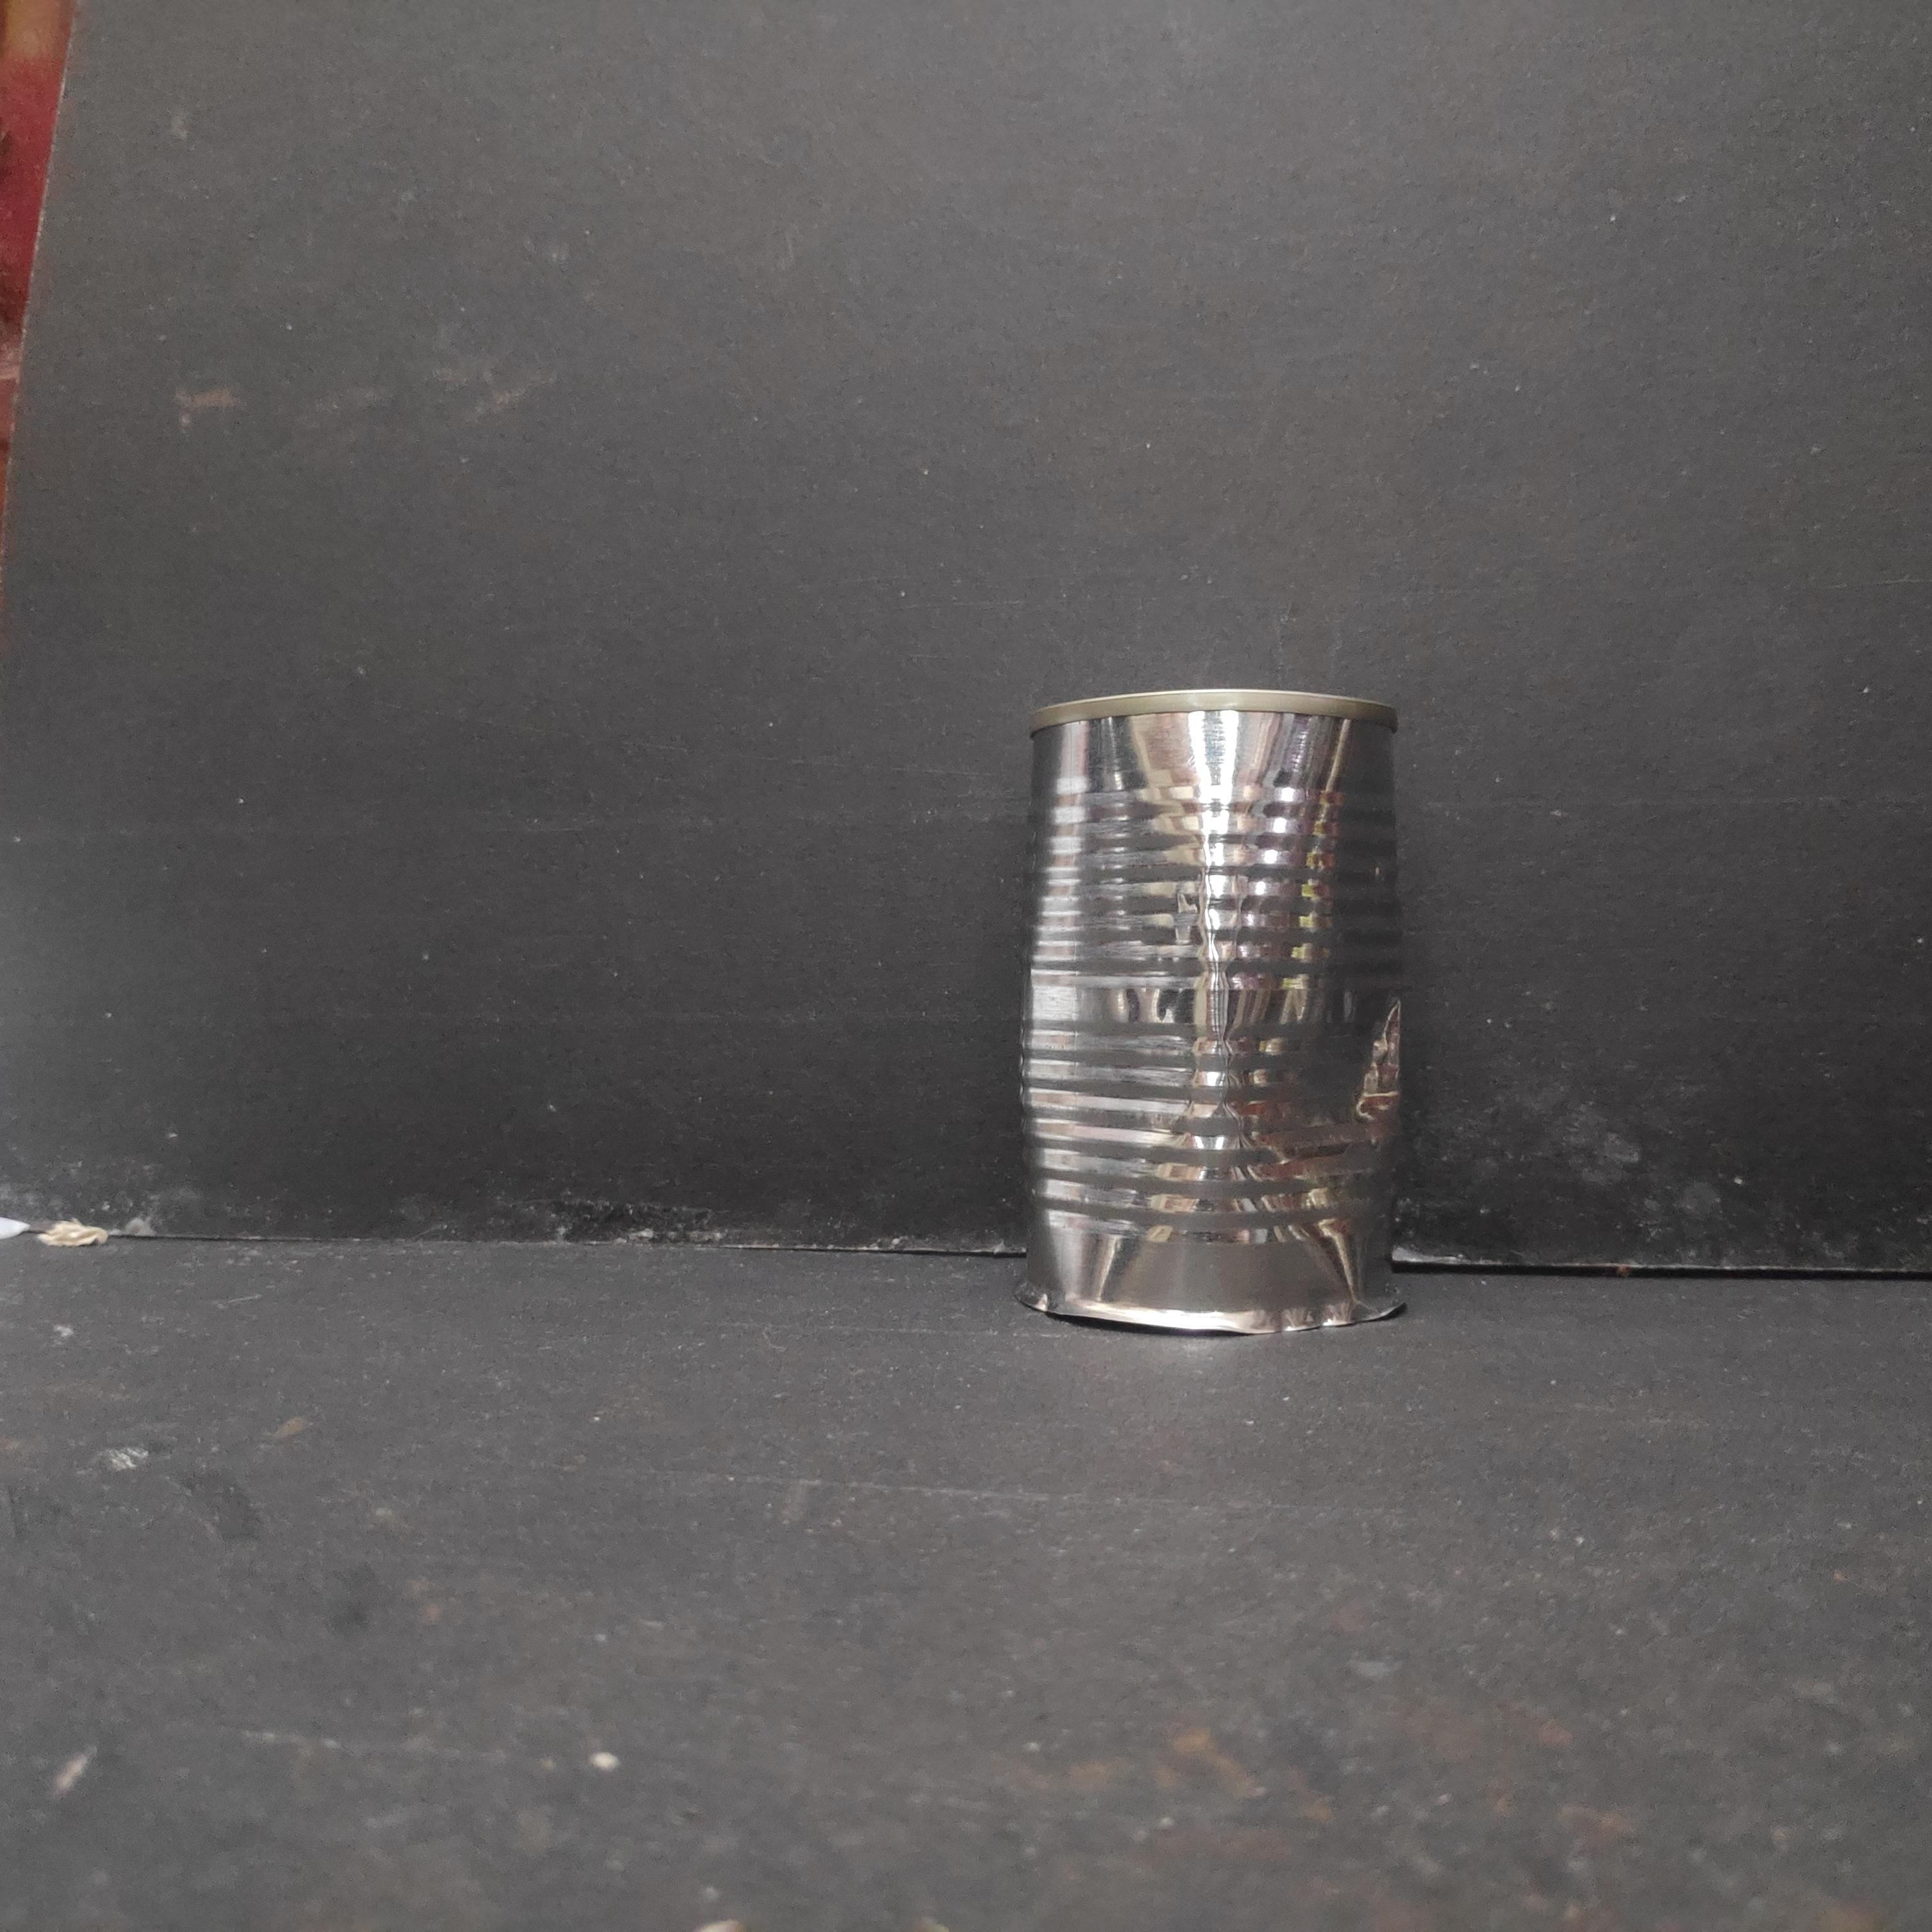Minor Defect: (1001, 681, 1430, 1346)
